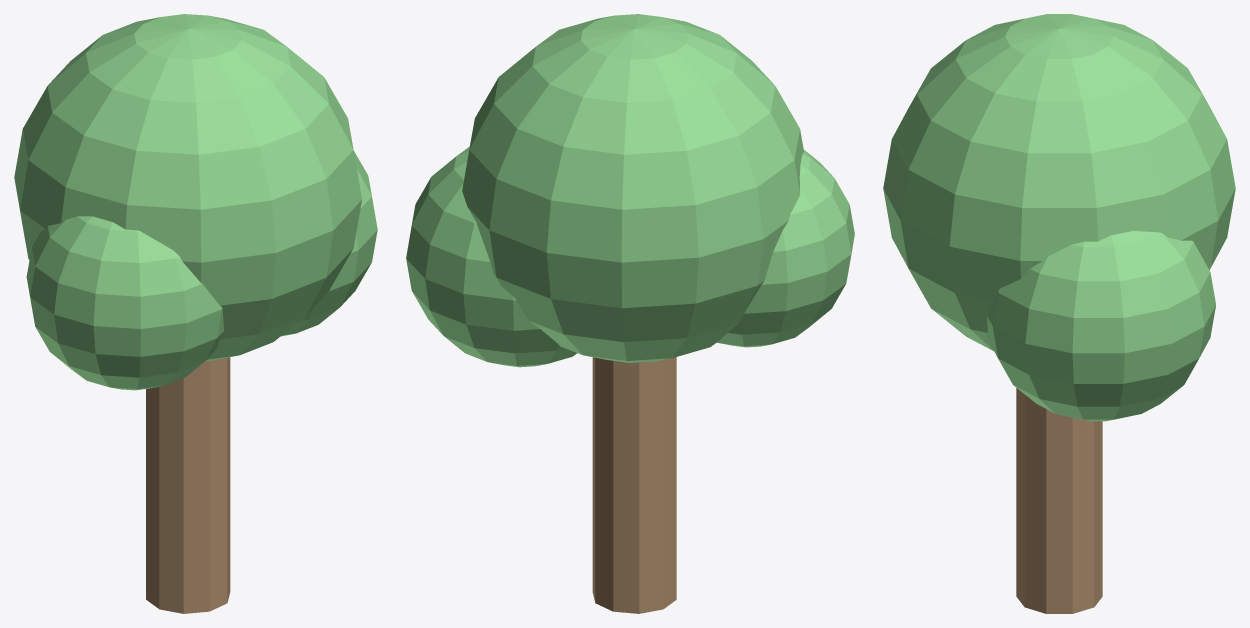
The model's file is tree.glb.
3 renders of one model, left to right at view 1: azimuth 30°, elevation 25°; view 2: azimuth 150°, elevation 25°; view 3: azimuth 270°, elevation 25°, orthographic.
Visible parts, largest first — view 1: tree; view 2: tree; view 3: tree.
Boxes of the visible parts, <box> form: tree: <box>14,14,377,613</box>; tree: <box>406,14,854,613</box>; tree: <box>883,14,1235,613</box>.
Bounding box in the file's own units: 2.17 × 3.2 × 1.8.
